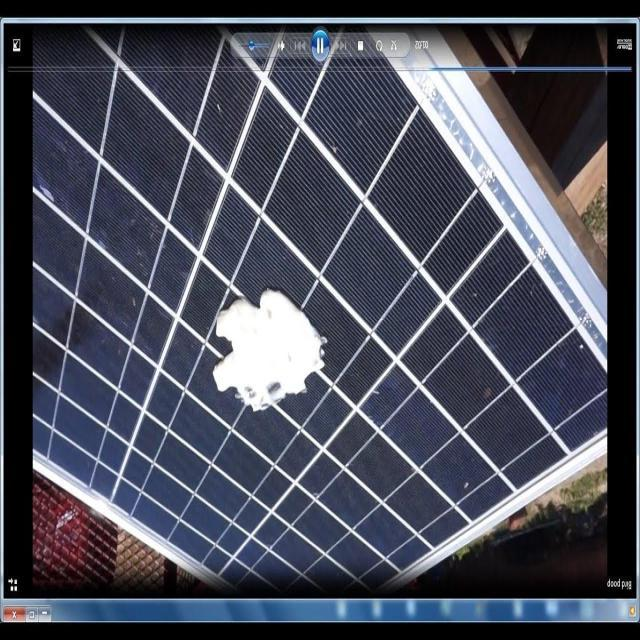soiled: (12, 74, 562, 545)
